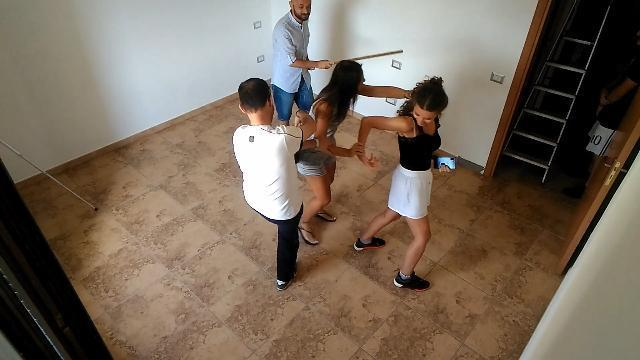non-violence: (567, 33, 640, 192)
violence: (296, 58, 458, 290), (232, 58, 356, 290), (268, 1, 404, 146)
